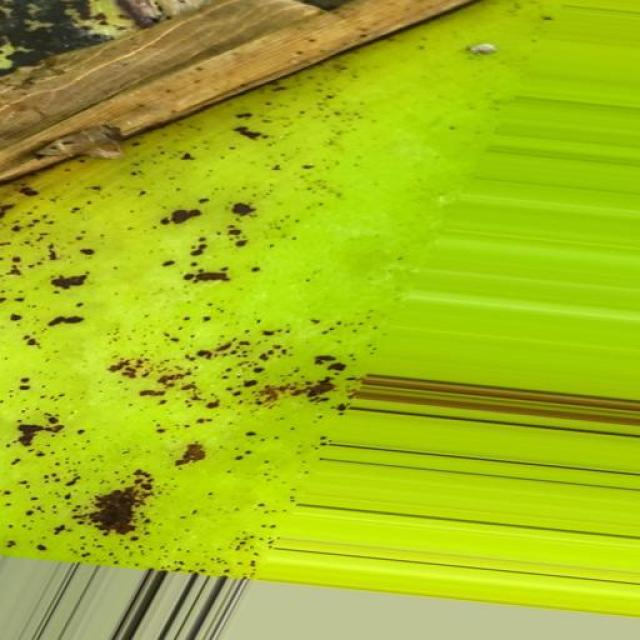Anthracnose: (2, 1, 548, 617)
